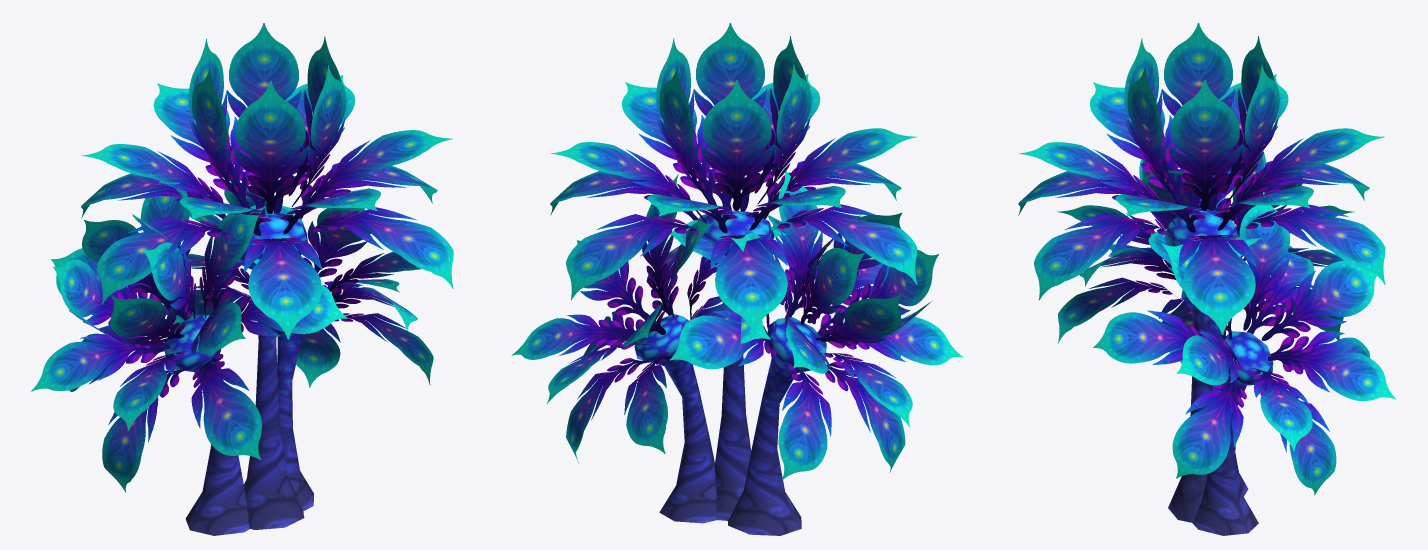
File: Blue_Tree_08d.FBX
3 renders of one model, left to right at view 1: azimuth 30°, elevation 25°; view 2: azimuth 150°, elevation 25°; view 3: azimuth 270°, elevation 25°, orthographic.
Visible parts, largest first — view 1: Blue_Tree_08d; view 2: Blue_Tree_08d; view 3: Blue_Tree_08d.
Boxes of the visible parts, box(x1,y1,x2,y2) form: Blue_Tree_08d: box(31, 23, 453, 535); Blue_Tree_08d: box(511, 23, 963, 535); Blue_Tree_08d: box(1018, 23, 1395, 535).
Size of the model in its own units: 267 by 291 by 235.
